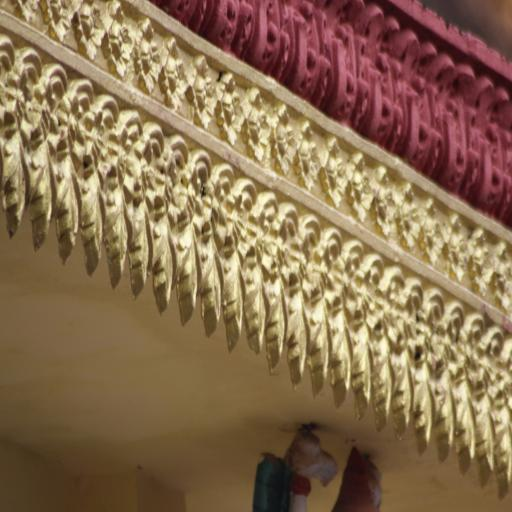hoa: (156, 34, 198, 108), (343, 150, 381, 225), (131, 16, 168, 93), (318, 136, 356, 208), (240, 85, 276, 159), (213, 70, 249, 143), (185, 54, 219, 128), (394, 181, 428, 255), (100, 9, 136, 77), (370, 163, 404, 235), (267, 101, 300, 172), (291, 120, 322, 194), (444, 215, 478, 279), (74, 2, 110, 61), (419, 198, 450, 264), (466, 229, 496, 293), (41, 0, 78, 43), (492, 235, 512, 311)
la: (354, 2, 426, 162), (406, 24, 468, 192), (314, 3, 394, 100), (255, 0, 316, 98), (475, 71, 512, 220), (177, 0, 255, 58), (50, 145, 80, 266), (103, 168, 129, 290), (0, 122, 26, 241), (150, 202, 174, 318), (82, 155, 104, 281), (27, 130, 49, 254), (129, 184, 150, 304), (284, 285, 307, 390), (224, 244, 245, 356), (176, 224, 199, 326), (330, 306, 352, 412), (202, 228, 223, 339), (432, 360, 454, 464), (388, 344, 410, 446), (309, 292, 329, 402), (245, 254, 266, 355), (492, 396, 512, 500), (352, 314, 370, 423), (266, 268, 284, 375), (473, 388, 491, 487), (370, 332, 388, 430), (454, 382, 473, 474), (412, 358, 430, 452)
